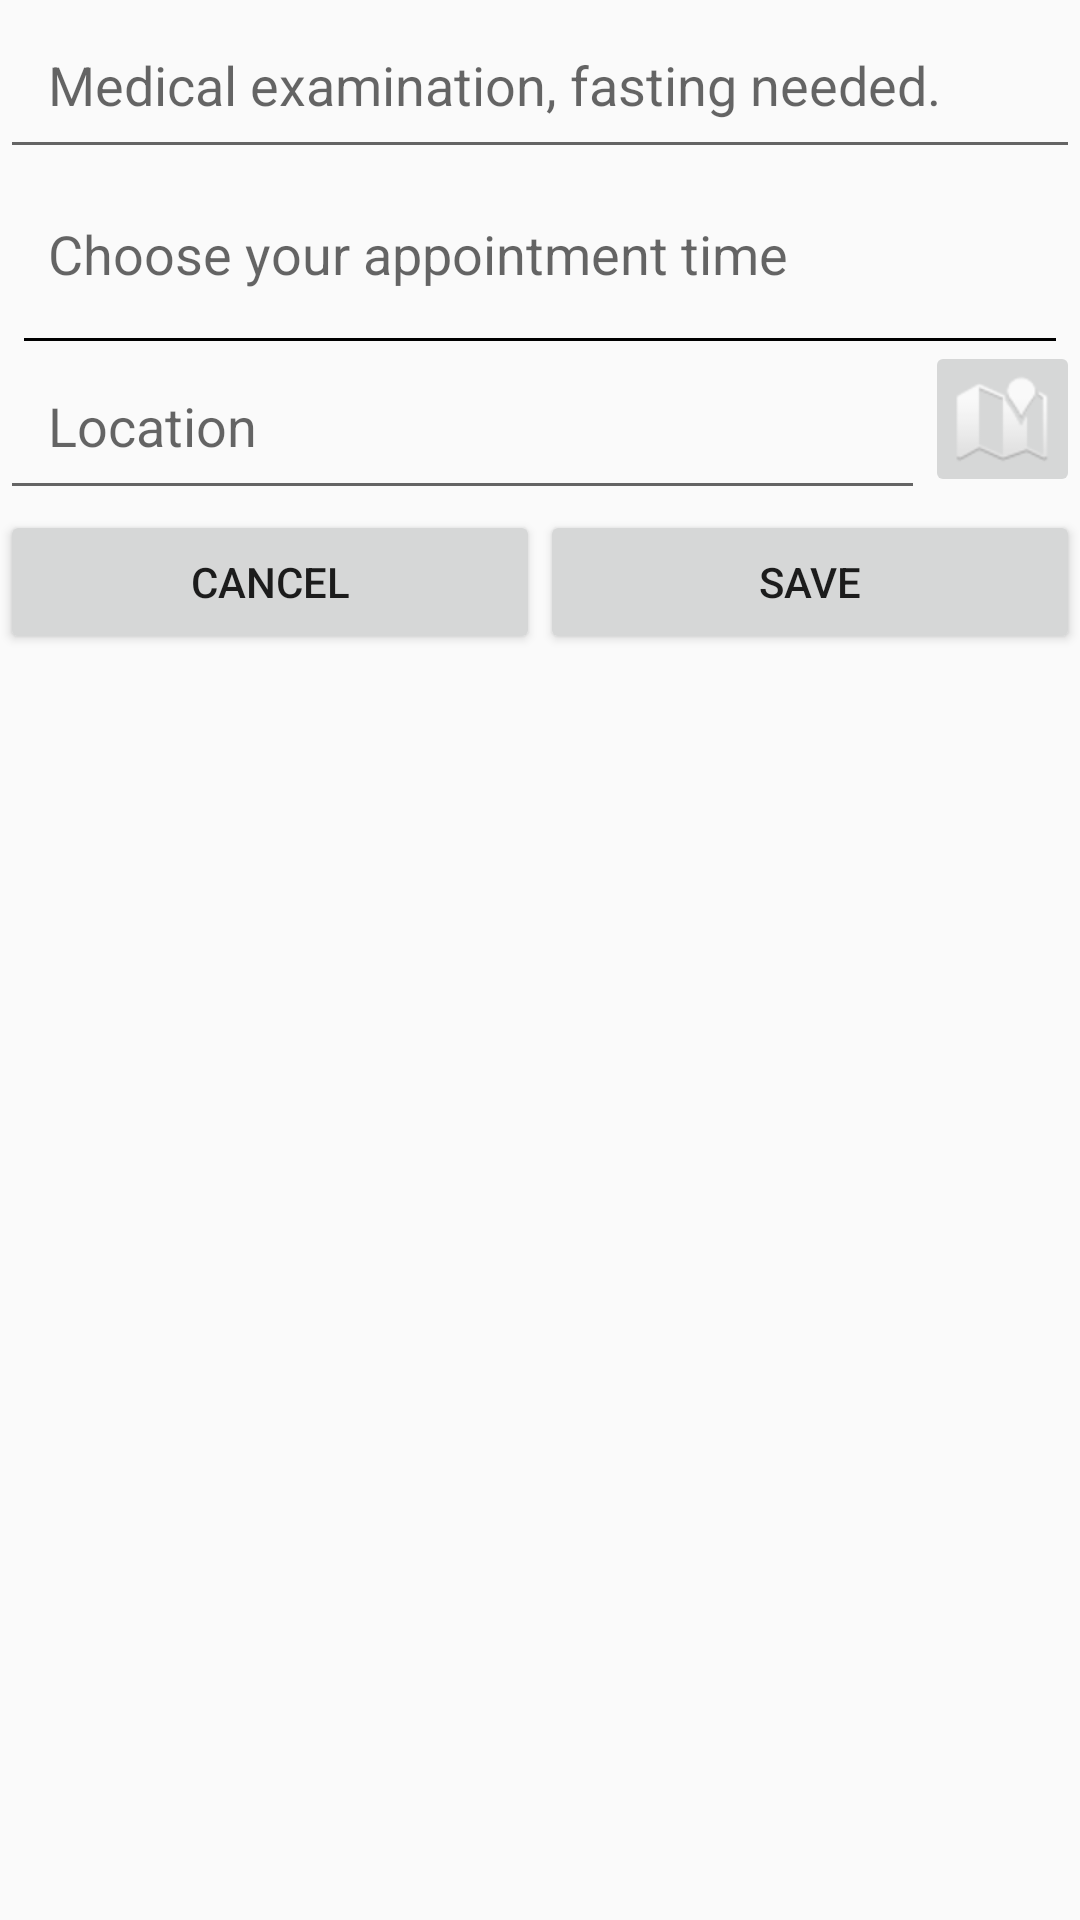

Screen size 1080×1920. Icon name, then its box in pixels as (x1, y1, x2, y2):
map: (937, 359, 1068, 479)
